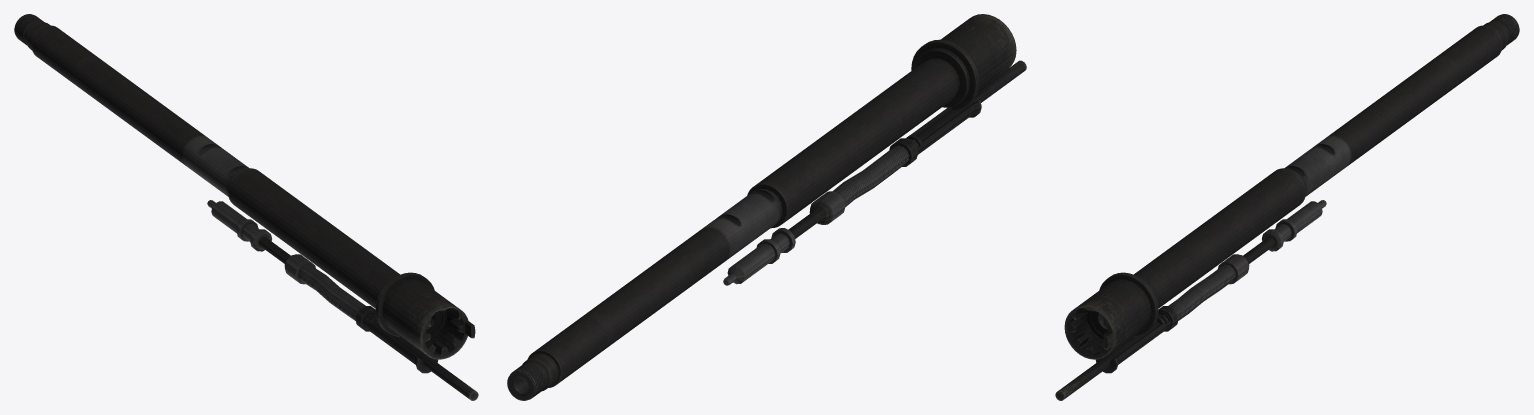
The picture shows the model from 3 angles, left to right: view 1: azimuth 30°, elevation 25°; view 2: azimuth 150°, elevation 25°; view 3: azimuth 330°, elevation 25°; orthographic projection. The views are drawn at different scales.
Visible parts, largest first — view 1: TW_61702be9faa1272e431522c3_PZ_Import; view 2: TW_61702be9faa1272e431522c3_PZ_Import; view 3: TW_61702be9faa1272e431522c3_PZ_Import.
Part boxes in pixels (left/top/right/bottom): TW_61702be9faa1272e431522c3_PZ_Import: left=14, top=14, right=478, bottom=400; TW_61702be9faa1272e431522c3_PZ_Import: left=507, top=14, right=1026, bottom=400; TW_61702be9faa1272e431522c3_PZ_Import: left=1055, top=14, right=1519, bottom=400.
Size of the model in its own units: 0.0203 by 0.2721 by 0.0278.
1 material, 1 textured.
